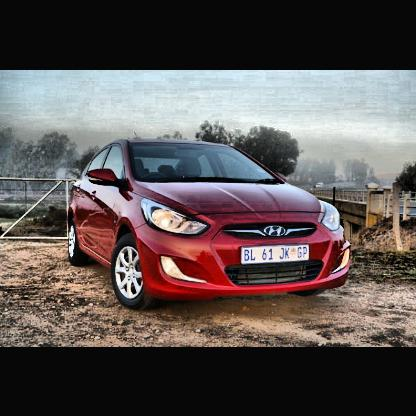Hyundai Accent Sedan 2012: (69, 132, 353, 310)
